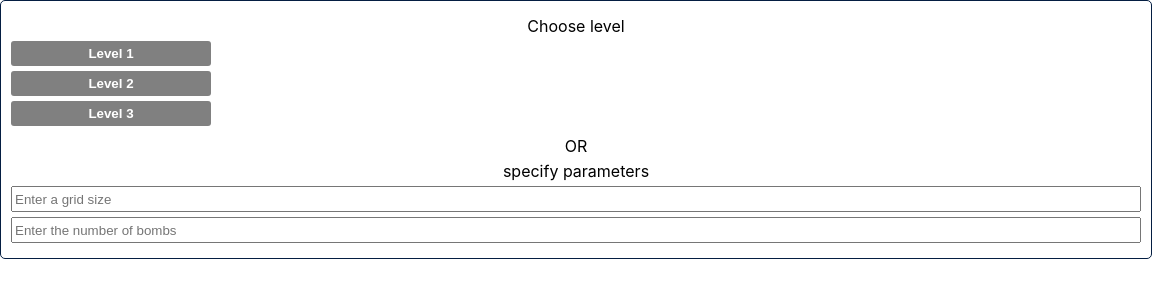
Test: GridMenu Component › inputs grid size and bombs count
The image size is (1152, 301).
Type "10" into the field with placeholder "Enter a grid size" at (576, 199), box [11,186,1141,212]
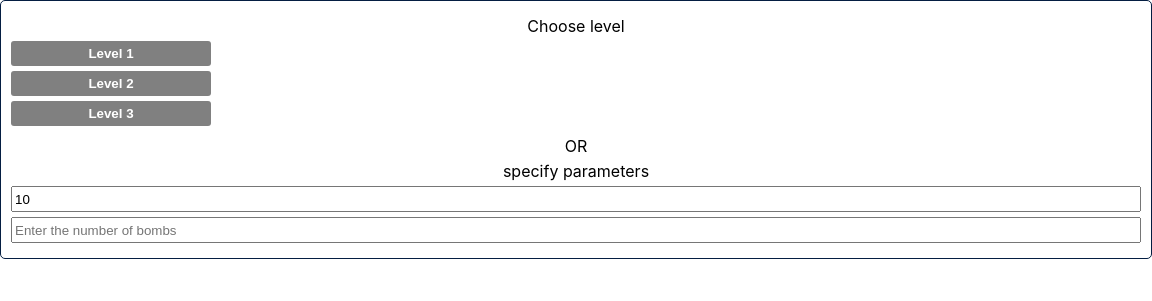
Type "5" into the field with placeholder "Enter the number of bombs" at (576, 230), box [11,217,1141,243]
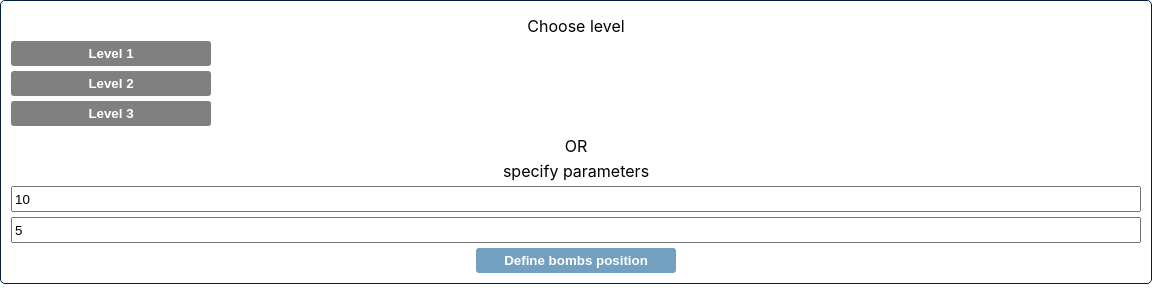
Expected: the button "Define bombs position" is shown, [476,248,676,273]
